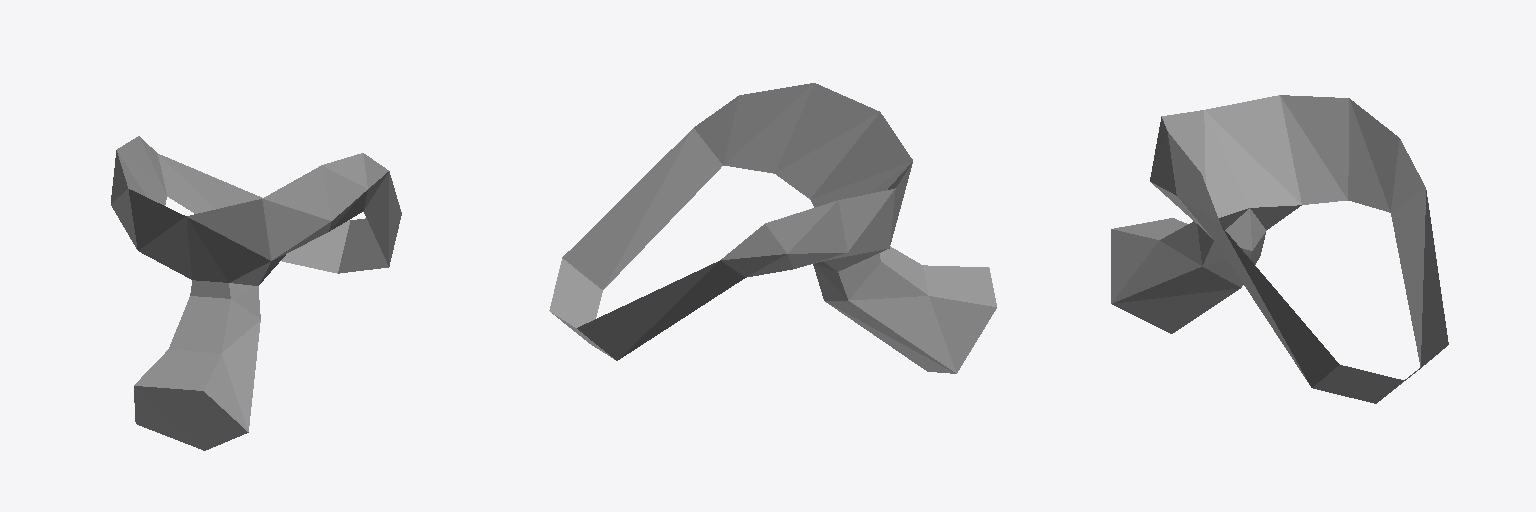
Rendered from fg_G_sling.obj.
3 renders of one model, left to right at view 1: azimuth 30°, elevation 25°; view 2: azimuth 150°, elevation 25°; view 3: azimuth 270°, elevation 25°, orthographic.
Visible parts, largest first — view 1: vsn_mesh_0__mesh_0_.005; view 2: vsn_mesh_0__mesh_0_.005; view 3: vsn_mesh_0__mesh_0_.005.
Part boxes in pixels (left/top/right/bottom): vsn_mesh_0__mesh_0_.005: left=111, top=136, right=401, bottom=450; vsn_mesh_0__mesh_0_.005: left=549, top=83, right=996, bottom=373; vsn_mesh_0__mesh_0_.005: left=1111, top=95, right=1448, bottom=403.
Bounding box in the file's own units: 17.28 × 12.18 × 14.37.